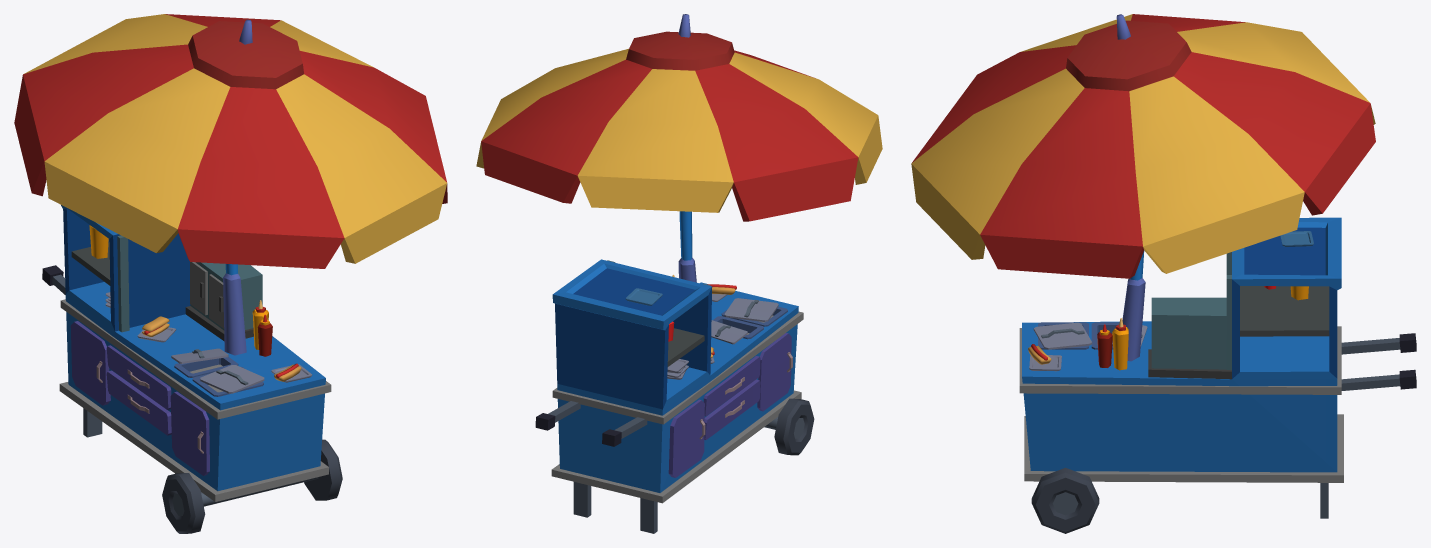
File: FoodCart_1_B.fbx
3 renders of one model, left to right at view 1: azimuth 30°, elevation 25°; view 2: azimuth 150°, elevation 25°; view 3: azimuth 270°, elevation 25°, orthographic. The views are drawn at different scales.
Parts seen in each view (by area): view 1: FoodCart_1_B; view 2: FoodCart_1_B; view 3: FoodCart_1_B.
Part boxes in pixels (<box>): FoodCart_1_B: <box>14,14,447,533</box>; FoodCart_1_B: <box>476,14,882,533</box>; FoodCart_1_B: <box>911,14,1416,533</box>.
Bounding box in the file's own units: 244 × 285 × 265.
